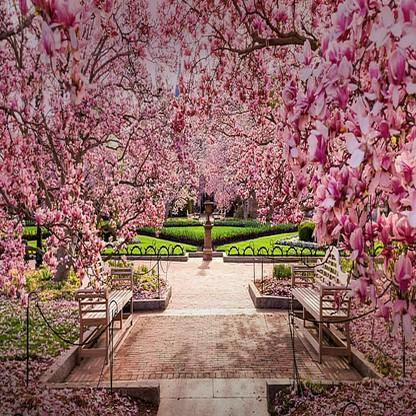obstacle: (72, 257, 155, 372), (280, 249, 358, 371)
